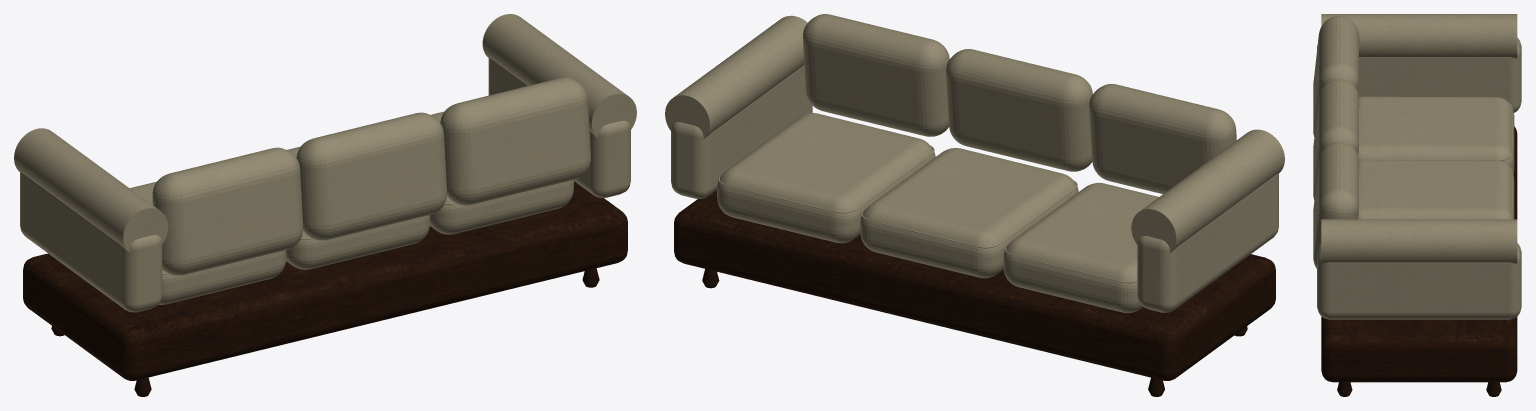
File: luxury-linen-three-seat.glb
3 views of the same model, side by side, from view 1: azimuth 30°, elevation 25°; view 2: azimuth 150°, elevation 25°; view 3: azimuth 270°, elevation 25° (orthographic). The views are drawn at different scales.
Visible parts, largest first — view 1: linen_0, walnut_0; view 2: linen_0, walnut_0; view 3: linen_0, walnut_0.
Part boxes in pixels (<box>): linen_0: <box>14,14,636,312</box>; walnut_0: <box>23,181,627,396</box>; linen_0: <box>665,14,1284,313</box>; walnut_0: <box>674,190,1275,396</box>; linen_0: <box>1313,14,1521,319</box>; walnut_0: <box>1321,126,1517,396</box>.
Size of the model in its own units: 2.5 by 1 by 0.9776.
2 materials, 2 textured.
